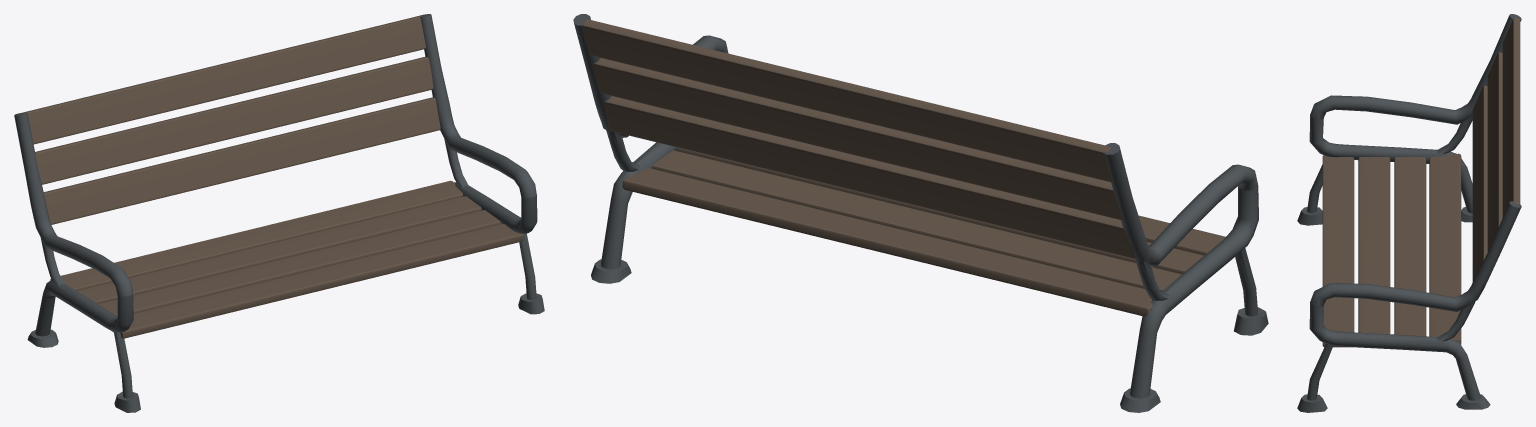
Rendered from Bench0.fbx.
The picture shows the model from 3 angles, left to right: view 1: azimuth 30°, elevation 25°; view 2: azimuth 150°, elevation 25°; view 3: azimuth 270°, elevation 25°; orthographic projection. The views are drawn at different scales.
Visible parts, largest first — view 1: Bench0; view 2: Bench0; view 3: Bench0.
Boxes of the visible parts, x1,y1,x2,y2 form: Bench0: (14,14,544,412); Bench0: (573,14,1268,412); Bench0: (1297,14,1521,412).
Bounding box in the file's own units: 5.69 × 2.77 × 2.74.
